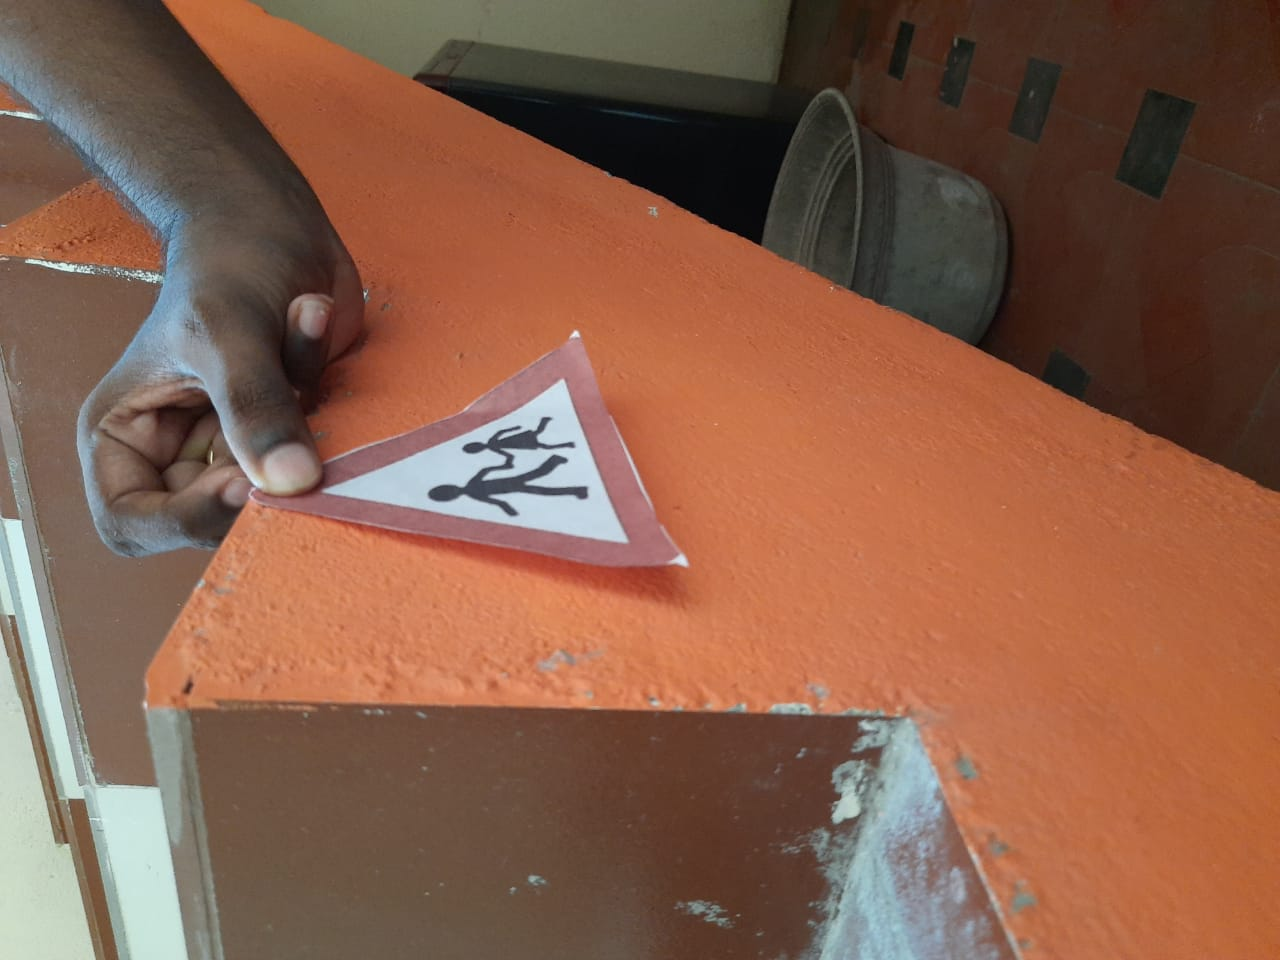SCHOOL ZONE: (256, 326, 716, 598)
